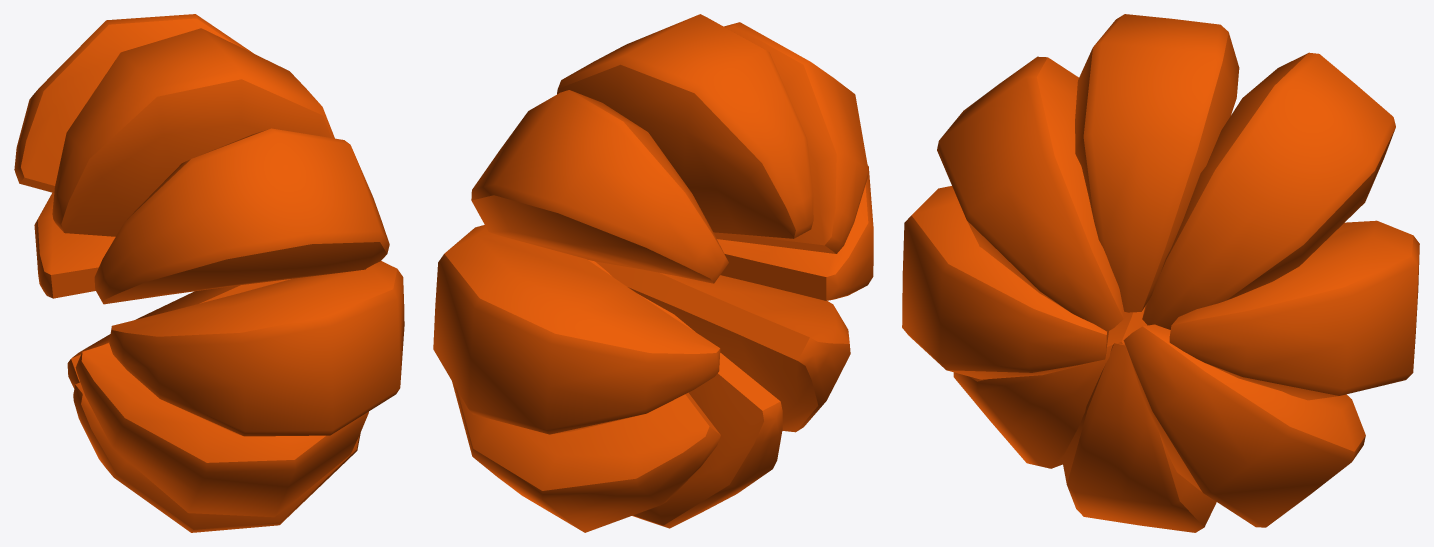
Rendered from p_mesh_hvs_lemonium_part03.fbx.
3 views of the same model, side by side, from view 1: azimuth 30°, elevation 25°; view 2: azimuth 150°, elevation 25°; view 3: azimuth 270°, elevation 25° (orthographic).
Visible parts, largest first — view 1: p_harvests_lemonium_part03; view 2: p_harvests_lemonium_part03; view 3: p_harvests_lemonium_part03.
Boxes of the visible parts, left/top/right/bottom form: p_harvests_lemonium_part03: left=14, top=14, right=404, bottom=532; p_harvests_lemonium_part03: left=433, top=14, right=873, bottom=532; p_harvests_lemonium_part03: left=902, top=14, right=1419, bottom=532.
Size of the model in its own units: 3.47 by 4.99 by 5.05.
